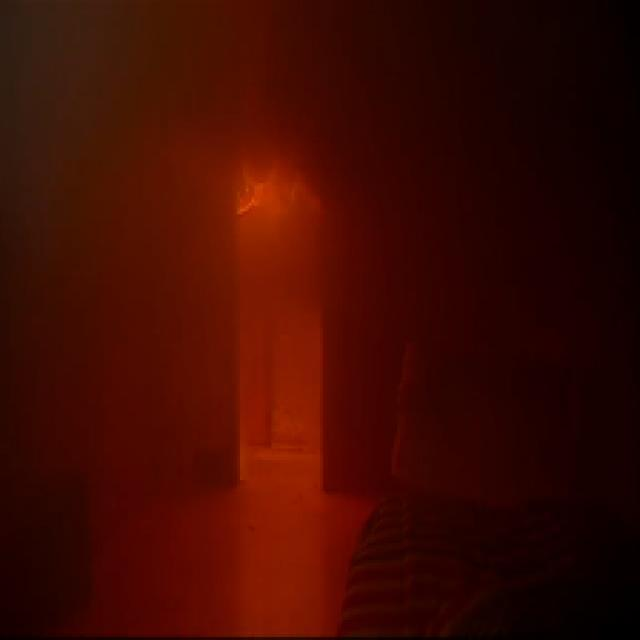Fire: (234, 163, 320, 226)
Smoke: (66, 14, 223, 283), (243, 29, 448, 154), (237, 240, 420, 334)
